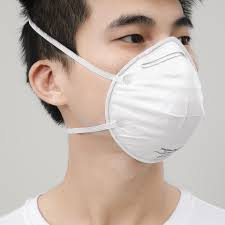with_mask: (90, 22, 207, 162)
